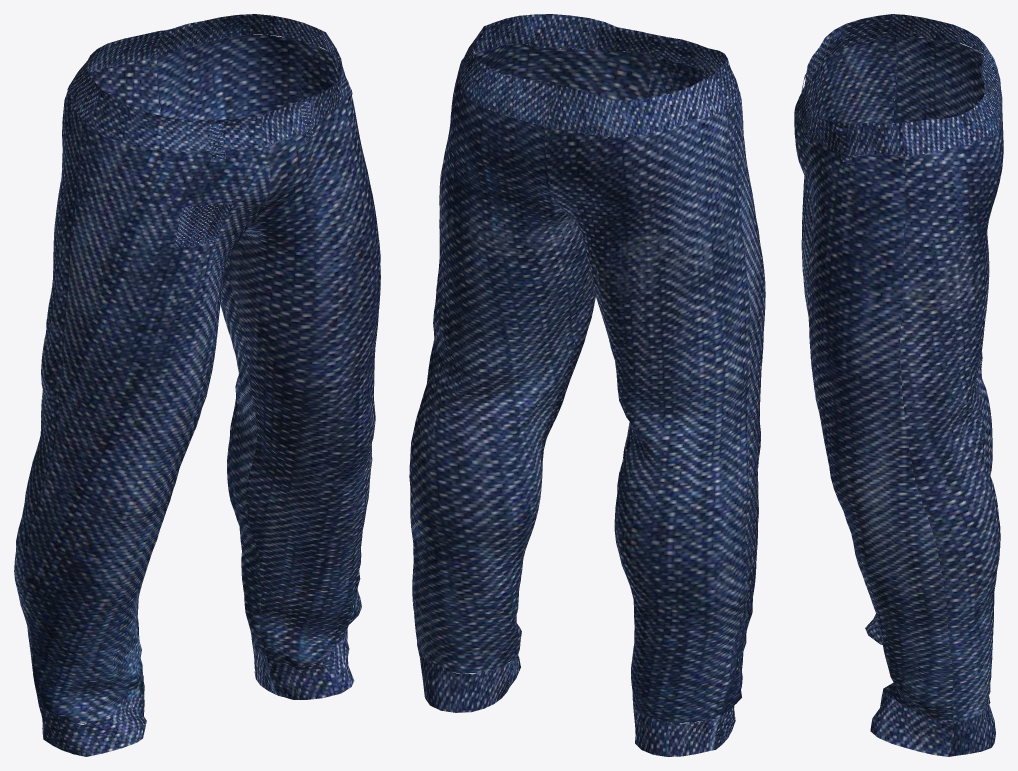
The model's file is pants.glb.
3 views of the same model, side by side, from view 1: azimuth 30°, elevation 25°; view 2: azimuth 150°, elevation 25°; view 3: azimuth 270°, elevation 25° (orthographic). The views are drawn at different scales.
Parts seen in each view (by area): view 1: pant; view 2: pant; view 3: pant.
Part boxes in pixels (box(x1,y1,x2,y2)): pant: box(14, 14, 380, 756); pant: box(409, 14, 765, 756); pant: box(794, 14, 1003, 756).
Bounding box in the file's own units: 0.8005 × 1.53 × 0.4623.
Materials: 1 (1 with a texture image).
